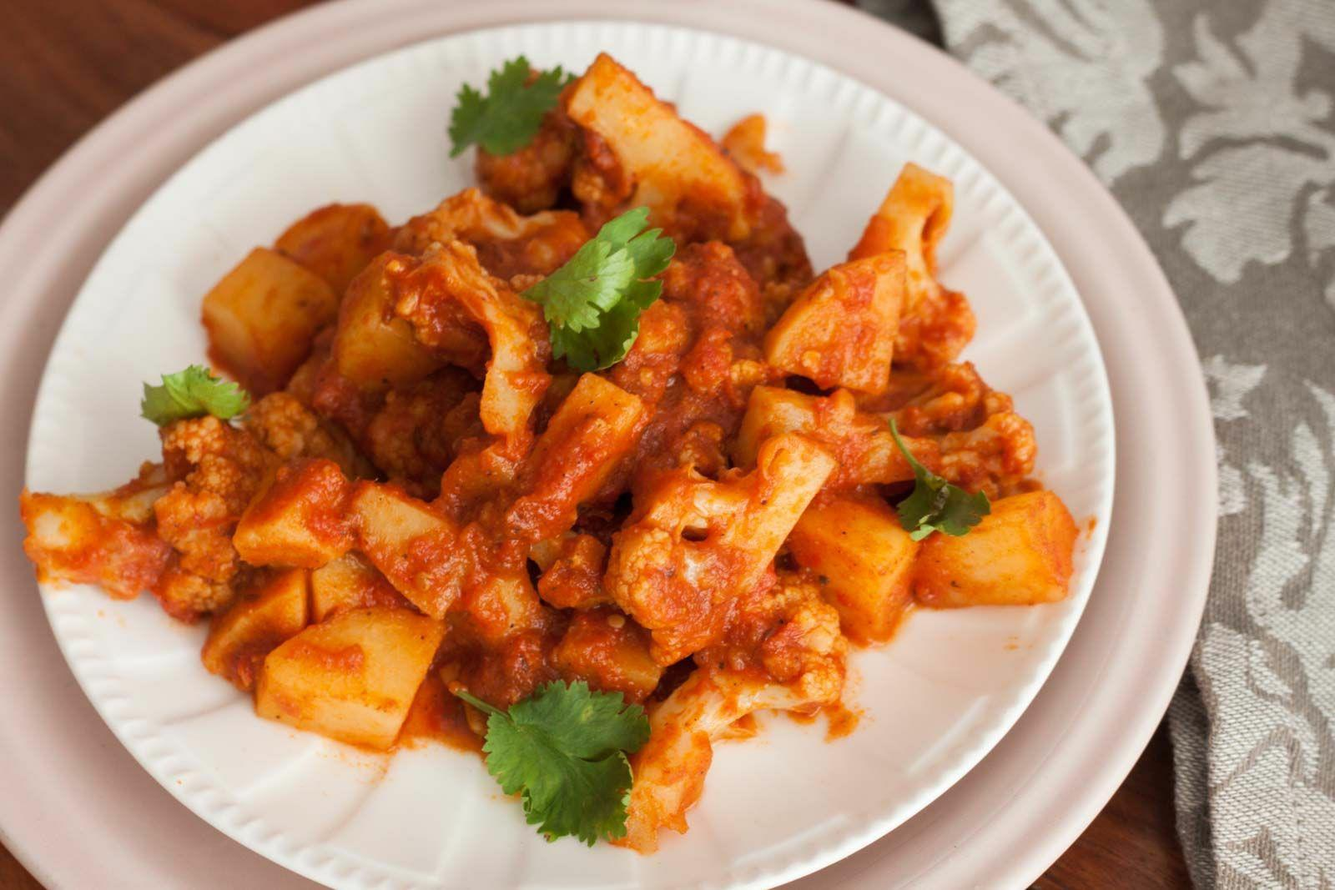AlooGobi: (20, 50, 1077, 854)
